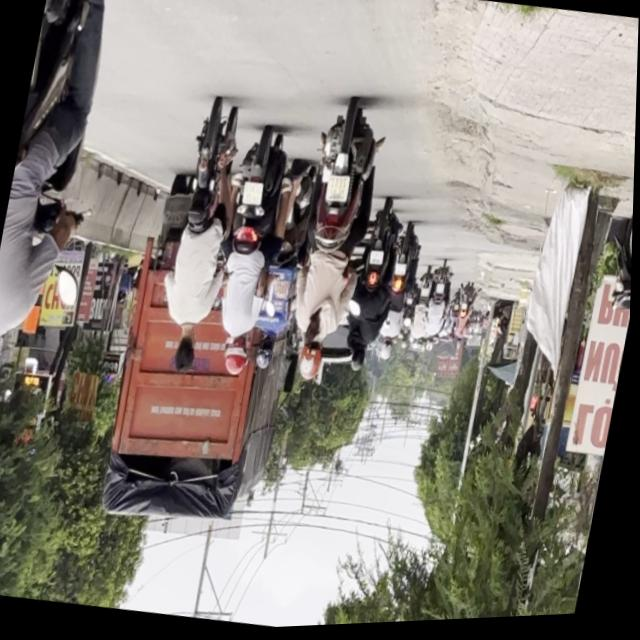helmet: (296, 334, 330, 386), (220, 338, 251, 380), (0, 341, 10, 435)
licenseplate: (0, 0, 130, 445), (276, 96, 394, 392), (149, 98, 256, 383), (202, 127, 303, 386)
motorcyclist: (171, 330, 202, 380)
nohelmet: (326, 178, 353, 208), (242, 183, 265, 210)
